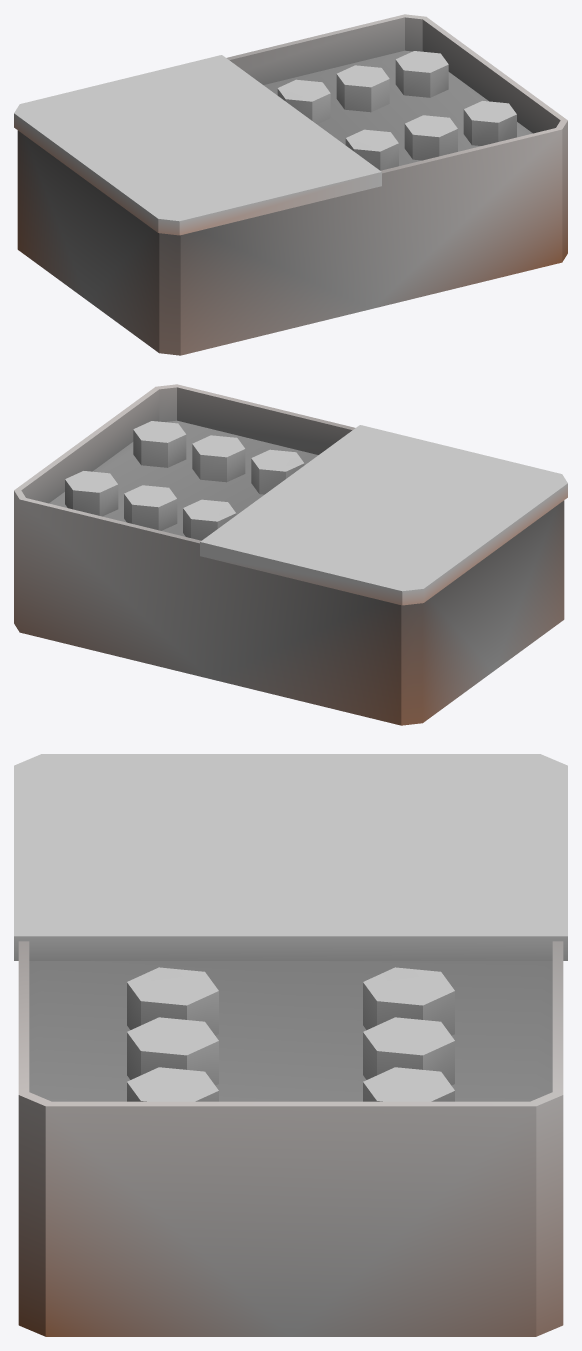
The model's file is pk_rounds_12.glb.
3 views of the same model, one above another, from view 1: azimuth 30°, elevation 25°; view 2: azimuth 150°, elevation 25°; view 3: azimuth 270°, elevation 25° (orthographic). The views are drawn at different scales.
Visible parts, largest first — view 1: pk_rounds_12_mesh; view 2: pk_rounds_12_mesh; view 3: pk_rounds_12_mesh.
Boxes of the visible parts, left/top/right/bottom form: pk_rounds_12_mesh: left=14, top=14, right=567, bottom=355; pk_rounds_12_mesh: left=14, top=384, right=567, bottom=725; pk_rounds_12_mesh: left=14, top=754, right=567, bottom=1336.
Size of the model in its own units: 0.181 by 0.0572 by 0.122.
